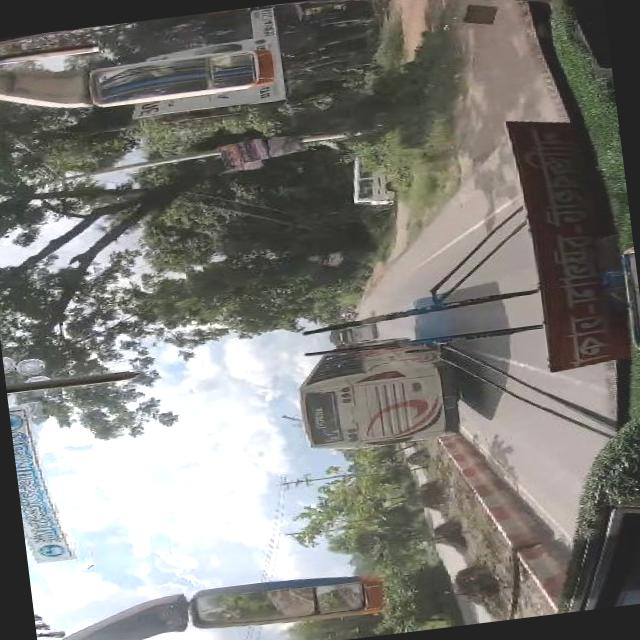bus: (292, 329, 464, 451), (334, 320, 374, 342)
truck: (348, 150, 398, 206)
